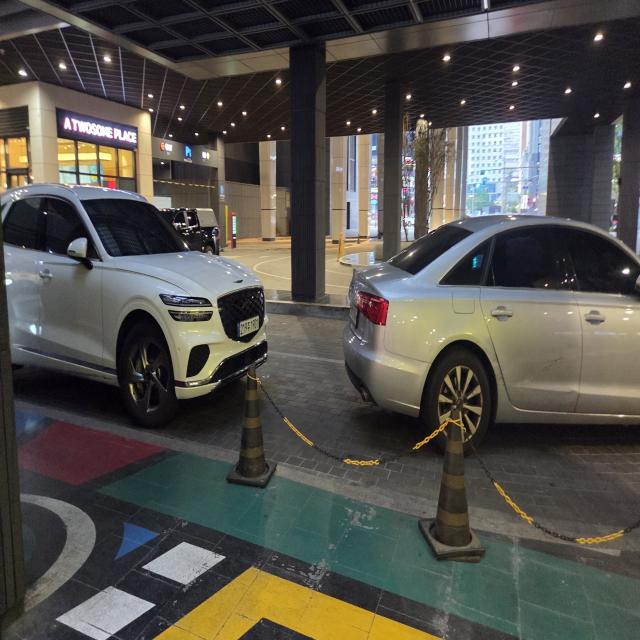car: (0, 128, 274, 446), (347, 177, 640, 448)
